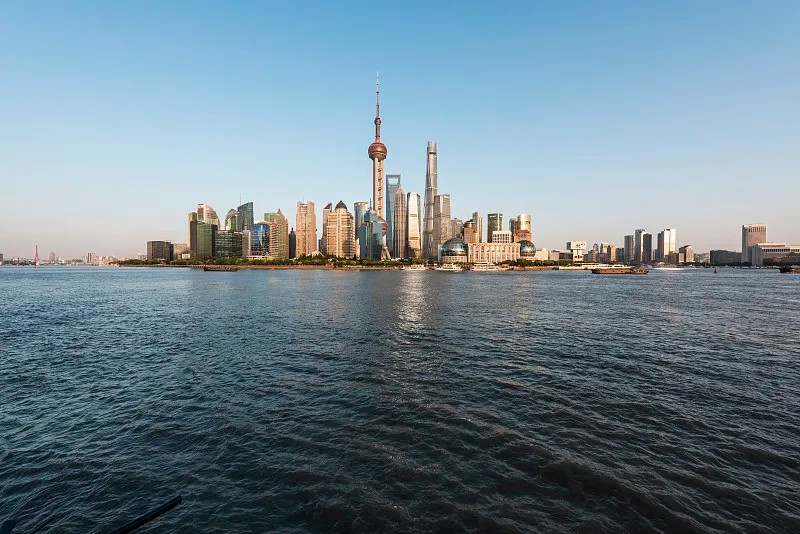Oriental: (367, 68, 388, 235)
